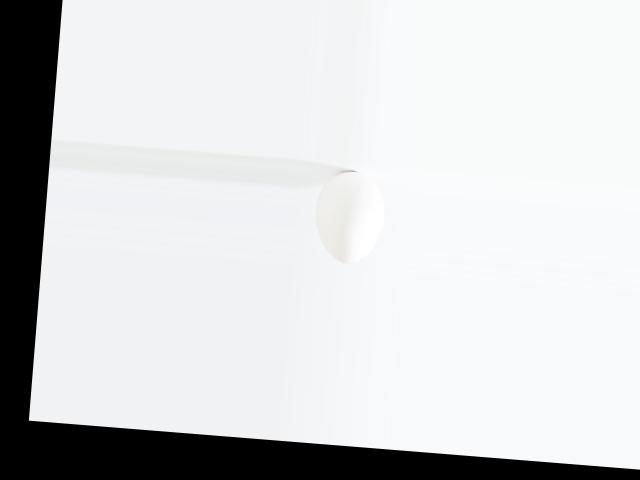egg: (312, 168, 388, 266)
